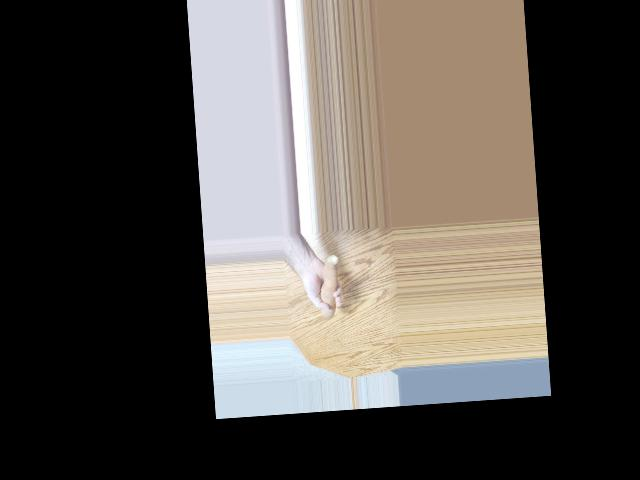sweet_potato: (314, 252, 340, 324)
